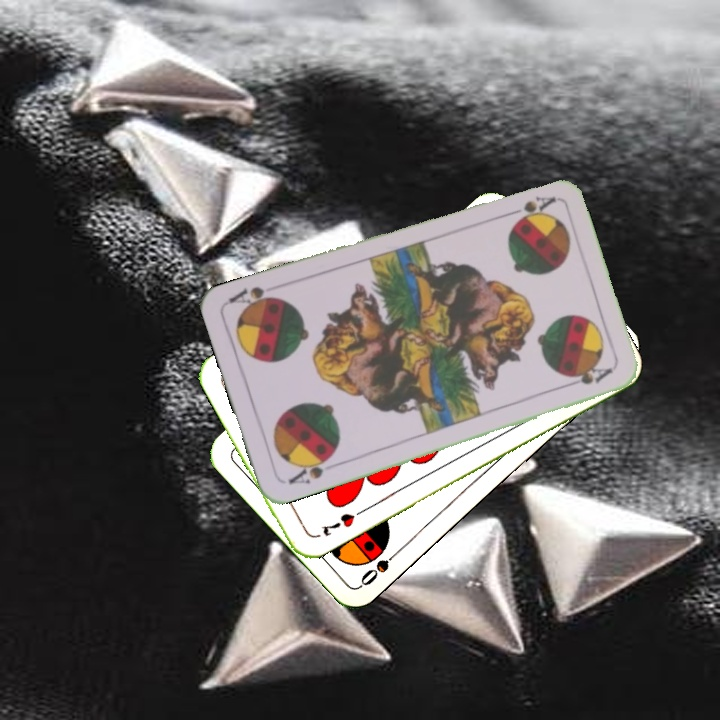H7: (318, 509, 358, 539)
SA: (284, 451, 336, 487), (500, 192, 558, 224)
SO: (356, 544, 404, 589)
